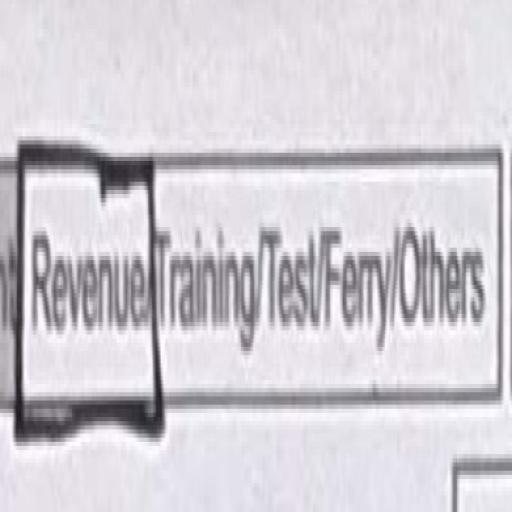check: (10, 69, 154, 512)
